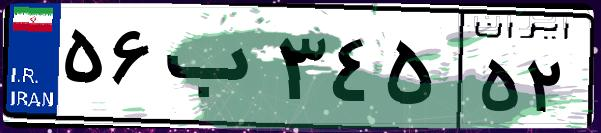2: (525, 38, 570, 115)
3: (270, 28, 330, 110)
4: (330, 28, 385, 110)
5: (385, 28, 445, 110), (57, 26, 110, 100), (475, 38, 525, 113)
6: (110, 28, 158, 98)
ب: (158, 20, 270, 120)
